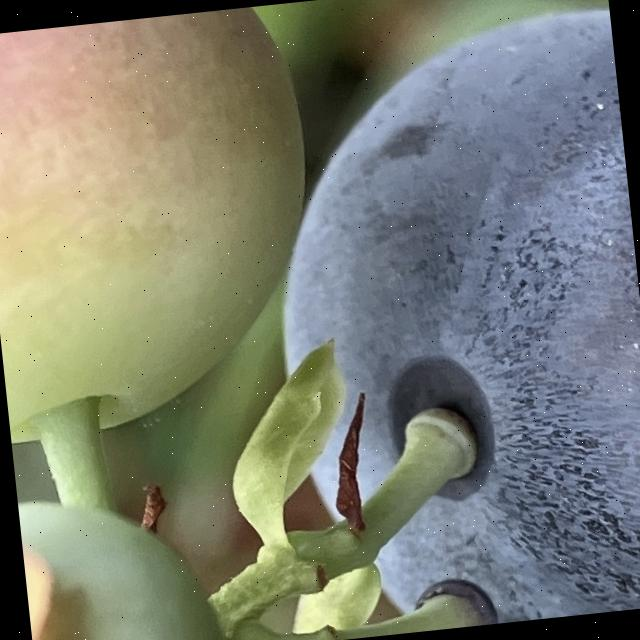Blueberries: (245, 2, 640, 640)
